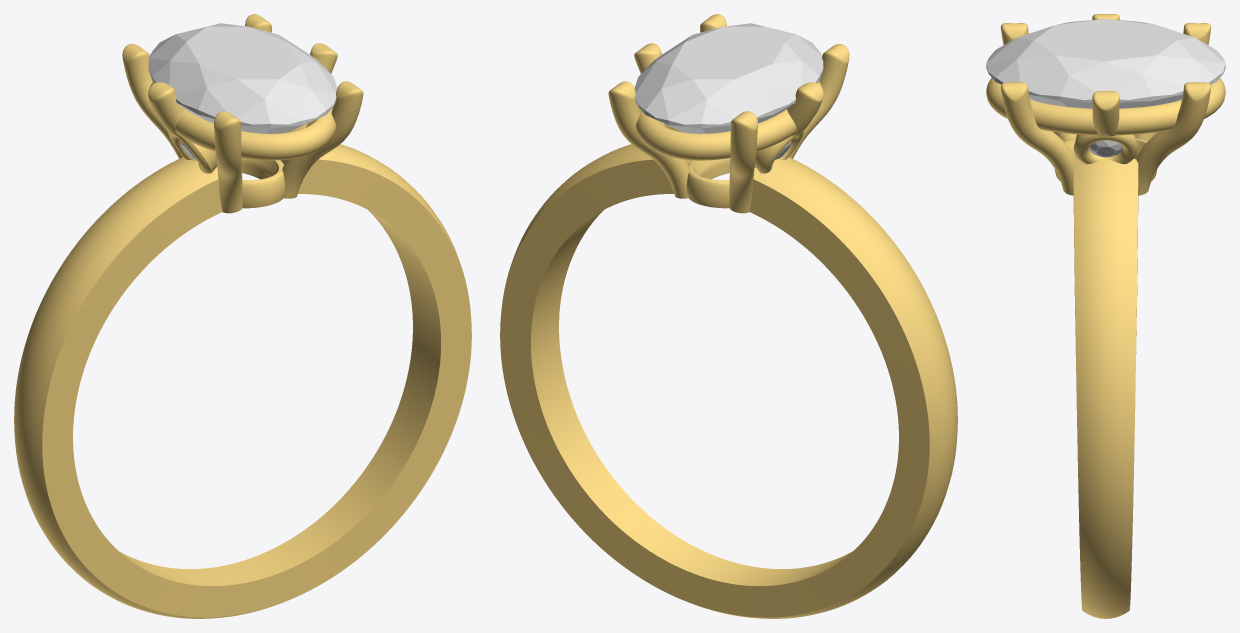
File: Ryan_S_oval_blender.glb
3 renders of one model, left to right at view 1: azimuth 30°, elevation 25°; view 2: azimuth 150°, elevation 25°; view 3: azimuth 270°, elevation 25°, orthographic.
Visible parts, largest first — view 1: Ryan YG for 3d model, Ryan dia for 3d model.002; view 2: Ryan YG for 3d model, Ryan dia for 3d model.002; view 3: Ryan YG for 3d model, Ryan dia for 3d model.002, Ryan dia for 3d model.
Boxes of the visible parts, left/top/right/bottom form: Ryan YG for 3d model: left=14, top=14, right=471, bottom=618; Ryan dia for 3d model.002: left=148, top=23, right=337, bottom=133; Ryan YG for 3d model: left=500, top=14, right=957, bottom=618; Ryan dia for 3d model.002: left=634, top=23, right=823, bottom=133; Ryan YG for 3d model: left=986, top=14, right=1225, bottom=618; Ryan dia for 3d model.002: left=986, top=19, right=1225, bottom=108; Ryan dia for 3d model: left=1089, top=140, right=1122, bottom=157.
Size of the model in its own units: 22.16 by 26.56 by 10.4.
